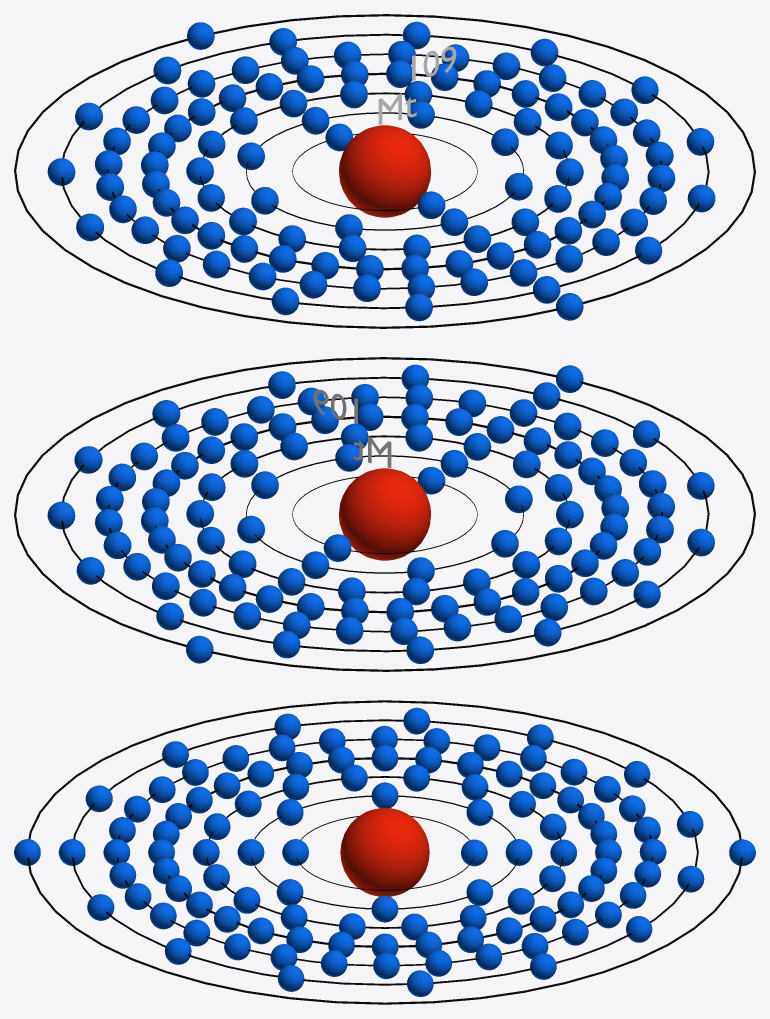
3 views of the same model, one above another, from view 1: azimuth 30°, elevation 25°; view 2: azimuth 150°, elevation 25°; view 3: azimuth 270°, elevation 25° (orthographic). The views are drawn at different scales.
Visible parts, largest first — view 1: Mt5, Mt4, Mt3, Mt6, Proton, Mt2, n7, n6, Mt7, n5, Mt1, n3 (+3 smaller); view 2: Mt5, Mt4, Mt3, Mt6, Proton, Mt2, n7, n6, n5, Mt7, Mt1, n3 (+3 smaller); view 3: Mt5, Mt4, Mt3, Mt6, Proton, Mt2, n7, n6, n5, Mt1, Mt7, n3 (+2 smaller).
Boxes of the visible parts, x1=… form: Mt5: x1=95, y1=41, x2=675, y2=301; Mt4: x1=141, y1=60, x2=628, y2=280; Mt3: x1=186, y1=80, x2=583, y2=261; Mt6: x1=47, y1=21, x2=715, y2=321; Proton: x1=339, y1=125, x2=430, y2=217; Mt2: x1=237, y1=101, x2=532, y2=239; n7: x1=14, y1=14, x2=755, y2=328; n6: x1=61, y1=33, x2=709, y2=309; Mt7: x1=187, y1=22, x2=583, y2=320; n5: x1=106, y1=53, x2=661, y2=289; Mt1: x1=325, y1=123, x2=445, y2=218; n3: x1=200, y1=92, x2=569, y2=250; Mt5: x1=95, y1=384, x2=674, y2=644; Mt4: x1=141, y1=403, x2=628, y2=623; Mt3: x1=186, y1=423, x2=583, y2=605; Mt6: x1=47, y1=364, x2=714, y2=663; Proton: x1=339, y1=468, x2=430, y2=560; Mt2: x1=237, y1=444, x2=532, y2=582; n7: x1=14, y1=357, x2=755, y2=671; n6: x1=61, y1=376, x2=709, y2=652; n5: x1=107, y1=396, x2=663, y2=632; Mt7: x1=186, y1=365, x2=583, y2=663; Mt1: x1=323, y1=467, x2=445, y2=561; n3: x1=200, y1=435, x2=569, y2=593; Mt5: x1=103, y1=725, x2=666, y2=979; Mt4: x1=148, y1=744, x2=621, y2=957; Mt3: x1=193, y1=764, x2=576, y2=940; Mt6: x1=58, y1=707, x2=704, y2=996; Proton: x1=340, y1=808, x2=429, y2=896; Mt2: x1=237, y1=782, x2=532, y2=922; n7: x1=27, y1=700, x2=742, y2=1004; n6: x1=72, y1=719, x2=698, y2=985; n5: x1=117, y1=738, x2=652, y2=966; Mt1: x1=282, y1=839, x2=487, y2=866; Mt7: x1=14, y1=839, x2=755, y2=865; n3: x1=206, y1=776, x2=563, y2=928.
Bounding box in the file's own units: 802 × 180 × 830.
